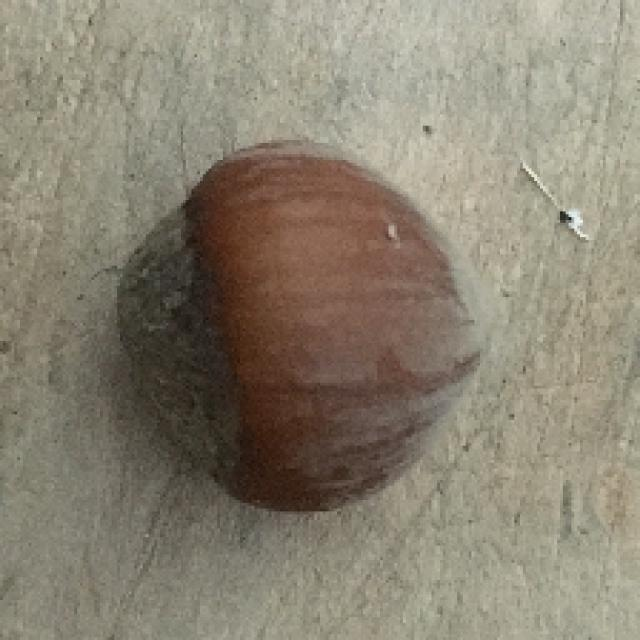qualityHazelnut: (118, 145, 492, 514)
